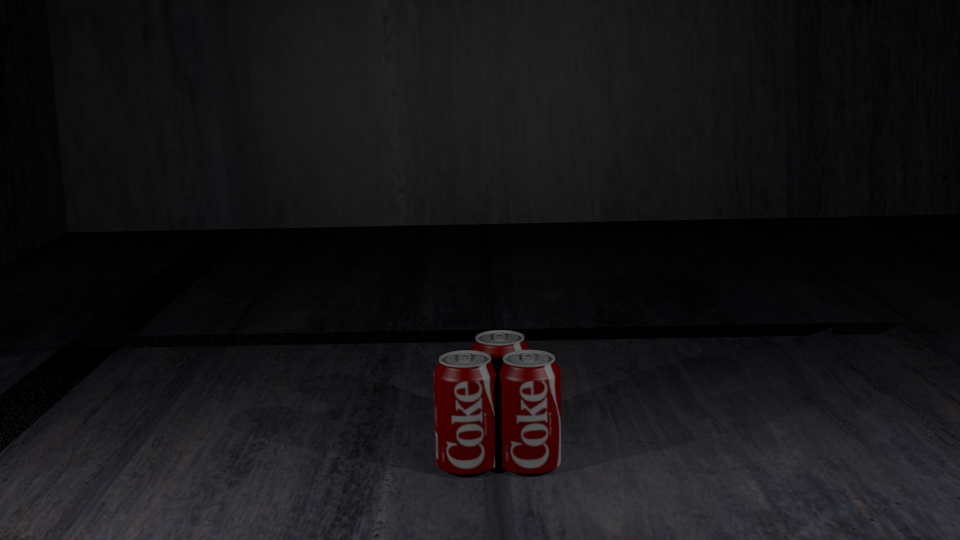cola_can: (434, 351, 497, 471), (497, 350, 560, 469), (471, 330, 529, 444)
